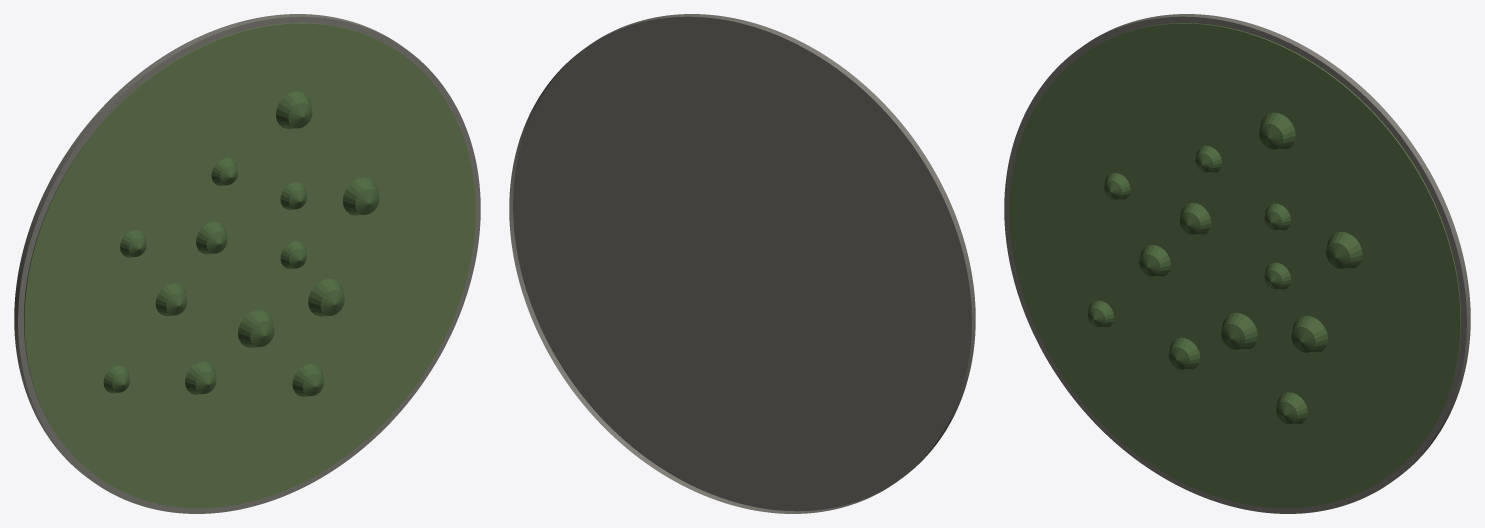
Rendered from central_island.obj.
The picture shows the model from 3 angles, left to right: view 1: azimuth 30°, elevation 25°; view 2: azimuth 150°, elevation 25°; view 3: azimuth 330°, elevation 25°; orthographic projection.
Visible parts, largest first — view 1: central_island; view 2: central_island; view 3: central_island.
Boxes of the visible parts, <box> form: central_island: <box>14,14,480,513</box>; central_island: <box>509,14,975,513</box>; central_island: <box>1004,14,1470,513</box>.
Size of the model in its own units: 16 by 16 by 0.85.
